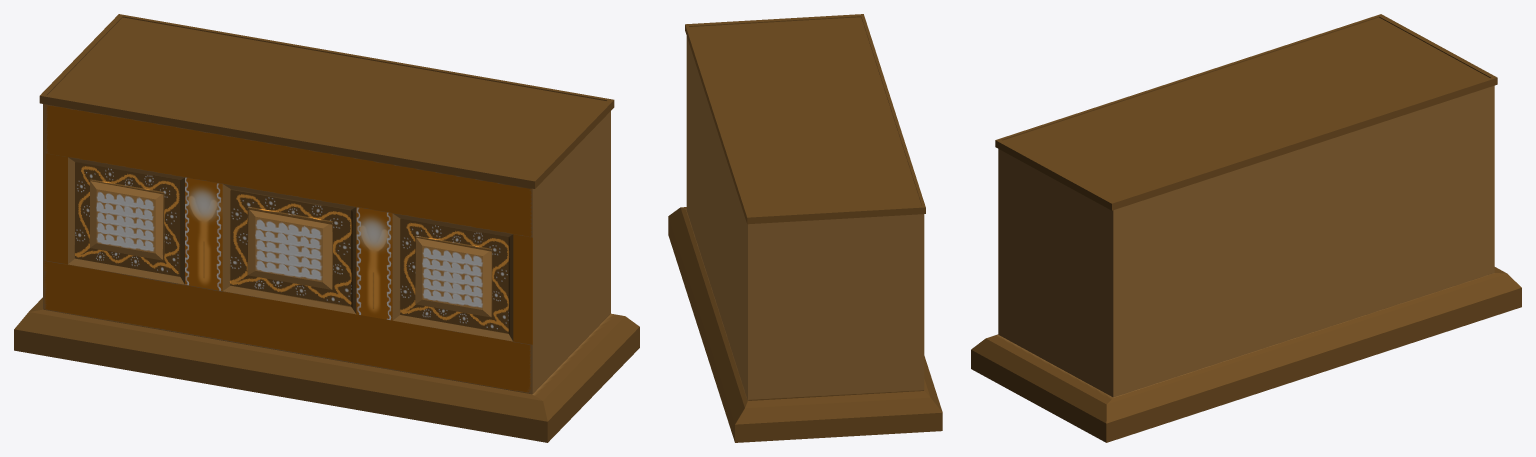
File: Mchest2.fbx
3 renders of one model, left to right at view 1: azimuth 30°, elevation 25°; view 2: azimuth 150°, elevation 25°; view 3: azimuth 270°, elevation 25°, orthographic. The views are drawn at different scales.
Parts seen in each view (by area): view 1: Cube; view 2: Cube; view 3: Cube.
Part boxes in pixels (bbox=[...]): Cube: bbox=[14, 14, 639, 442]; Cube: bbox=[668, 14, 942, 442]; Cube: bbox=[971, 14, 1521, 442].
Size of the model in its own units: 557 by 284 by 618.
1 material, 1 textured.
